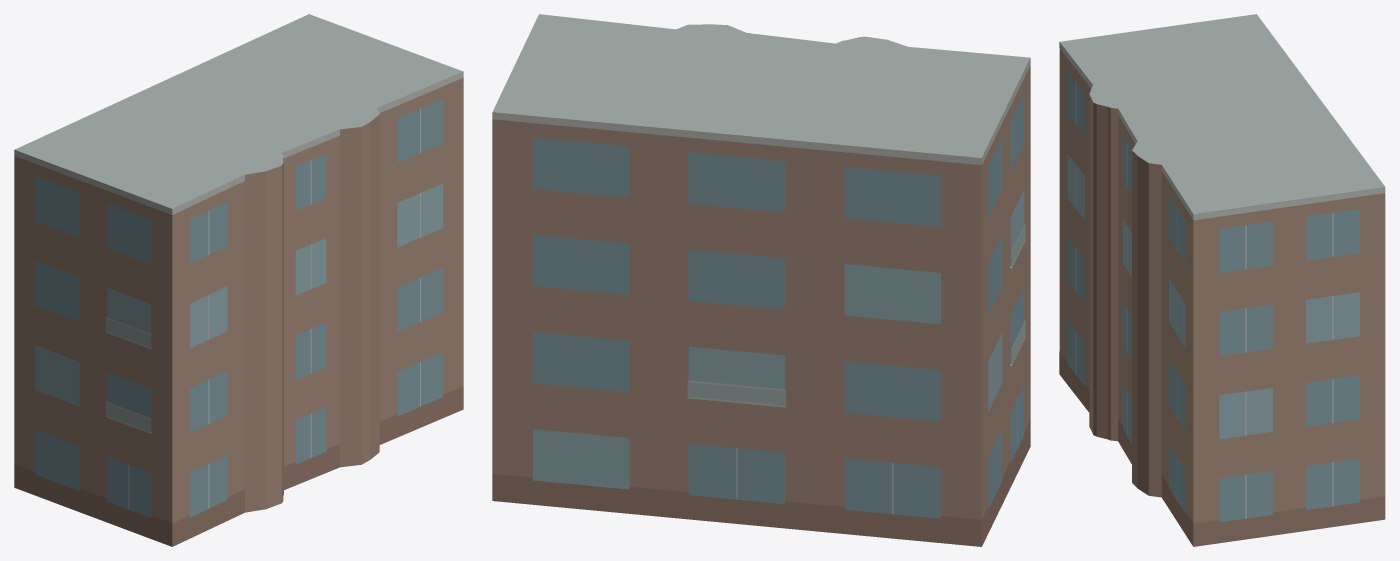
File: survey-upis-32619180.glb
The picture shows the model from 3 angles, left to right: view 1: azimuth 30°, elevation 25°; view 2: azimuth 150°, elevation 25°; view 3: azimuth 270°, elevation 25°; orthographic projection. The views are drawn at different scales.
Parts seen in each view (by area): view 1: survey-upis-32619180.tmp; view 2: survey-upis-32619180.tmp; view 3: survey-upis-32619180.tmp.
Part boxes in pixels (left/top/right/bottom): survey-upis-32619180.tmp: left=14, top=14, right=463, bottom=546; survey-upis-32619180.tmp: left=492, top=14, right=1030, bottom=546; survey-upis-32619180.tmp: left=1059, top=14, right=1385, bottom=546.
Bounding box in the file's own units: 17.25 × 13.35 × 11.86.
